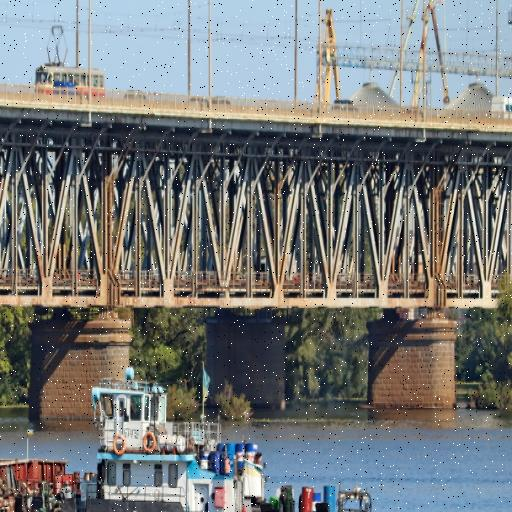tugboat: (12, 362, 478, 512)
